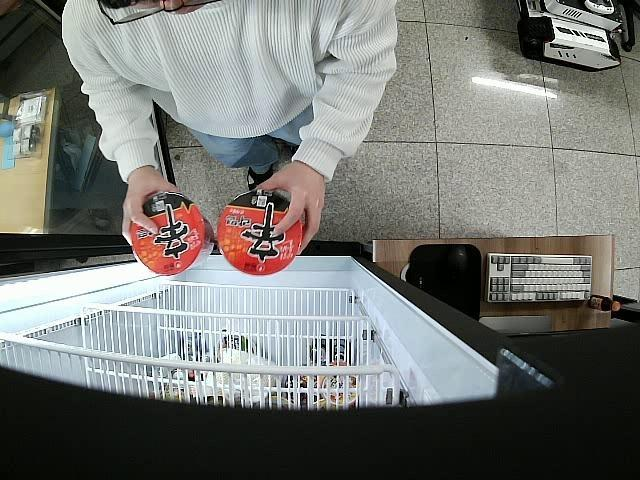01_ShinRamen_L: (218, 187, 304, 277), (130, 192, 213, 276)
